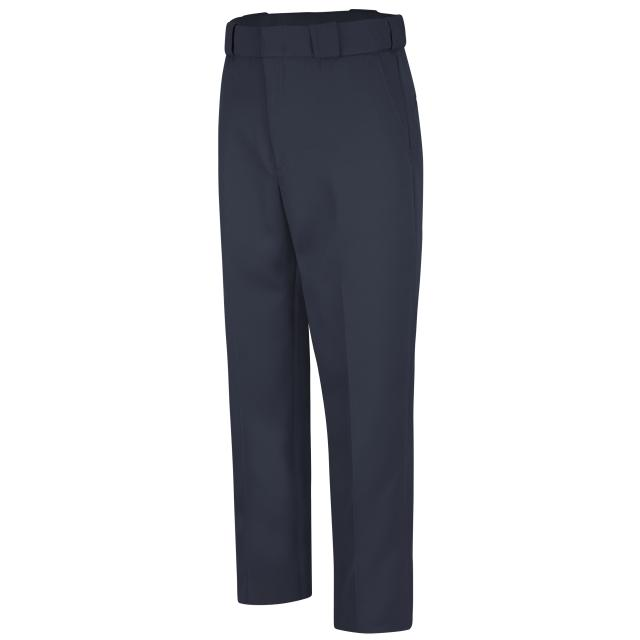long-pants: (218, 10, 424, 634)
